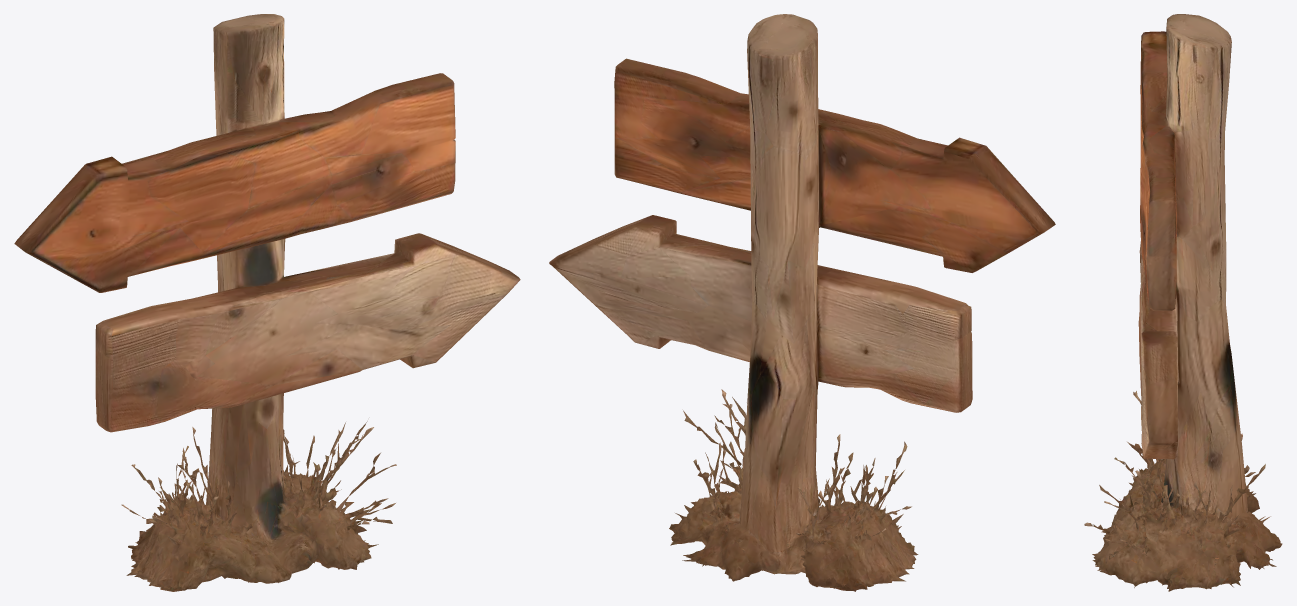
Rendered from prop-signpost.glb.
3 renders of one model, left to right at view 1: azimuth 30°, elevation 25°; view 2: azimuth 150°, elevation 25°; view 3: azimuth 270°, elevation 25°, orthographic.
Bounding box in the file's own units: 1.87 × 1.91 × 0.6558.
Materials: 1 (1 with a texture image).
